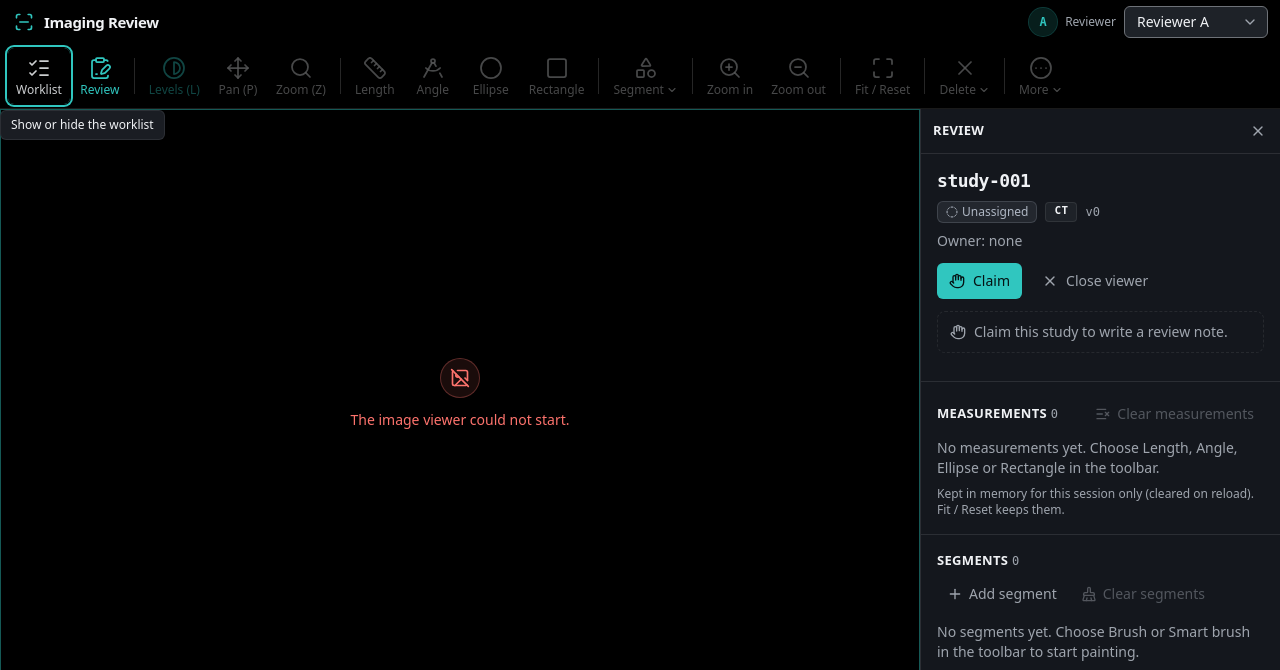
Test case: StudyPanel › Close viewer clears the panel and shows "Select a study to view it."
The image size is (1280, 670).
What coordinates should you click on to do the following:
click the button "Close viewer"
I would click on:
 (1095, 280)
Its box is [1030,262,1160,298].
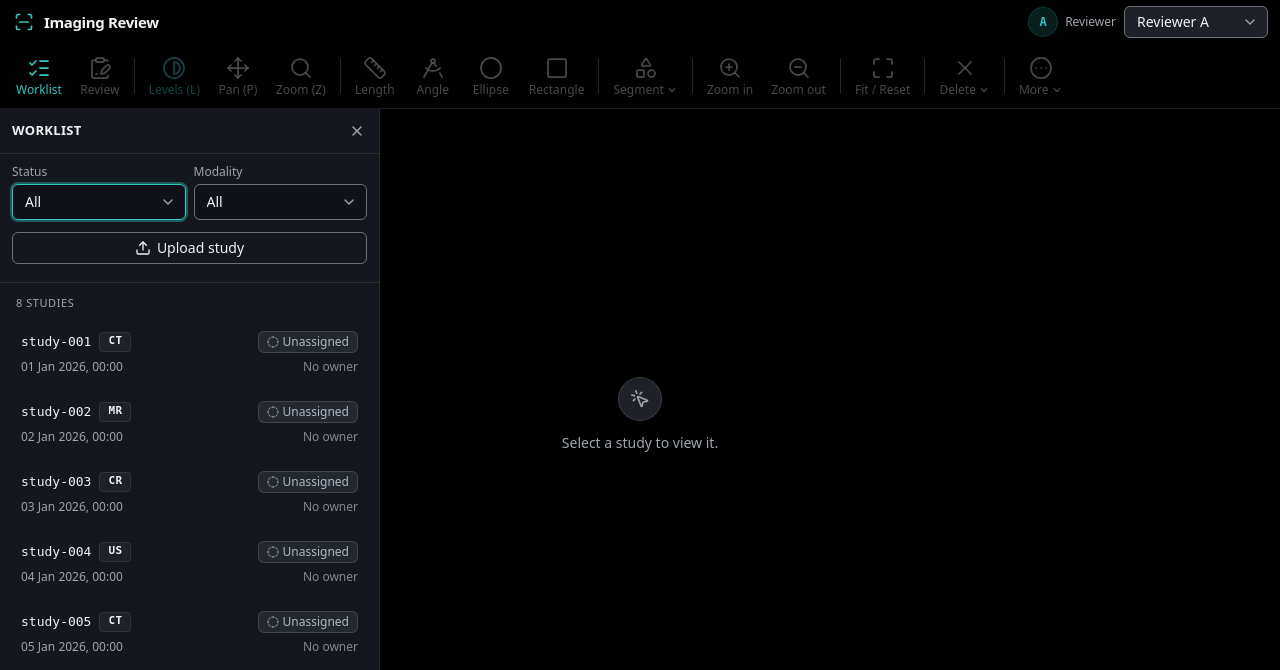
expect the text "Select a study to view it." is shown: met, box [562,432,718,452]
